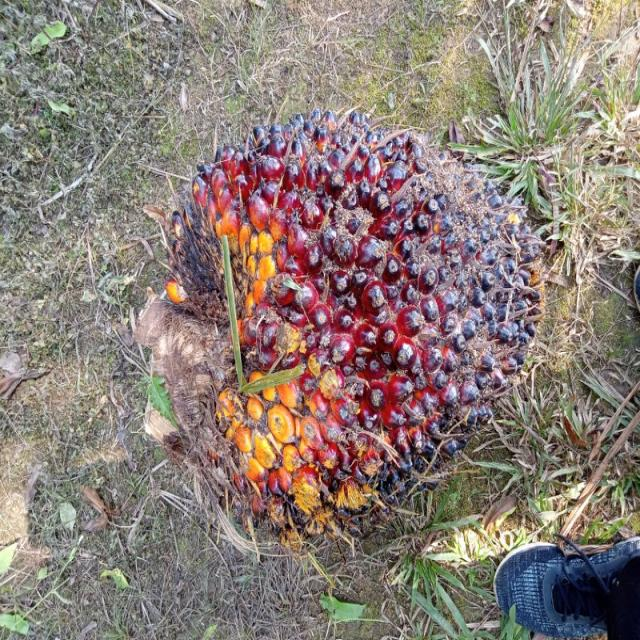fraksi 1: (138, 76, 585, 553)
